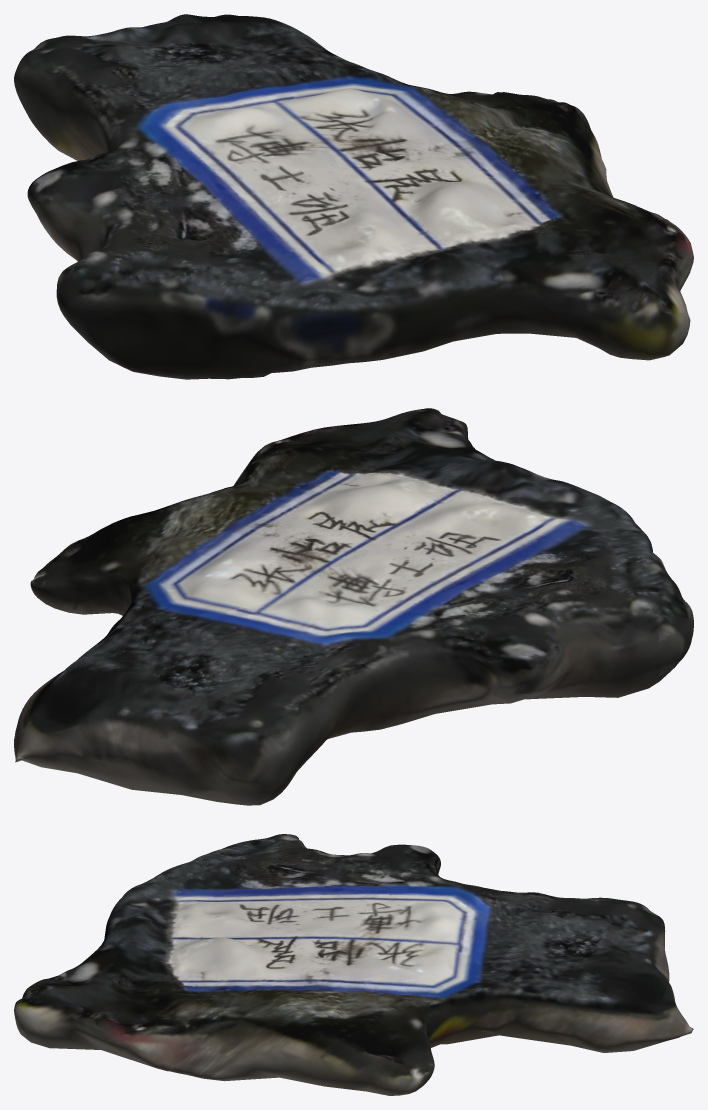
3 views of the same model, one above another, from view 1: azimuth 30°, elevation 25°; view 2: azimuth 150°, elevation 25°; view 3: azimuth 270°, elevation 25° (orthographic). The views are drawn at different scales.
Bounding box in the file's own units: 0.5532 × 0.1184 × 0.7176.
Materials: 1 (1 with a texture image).
